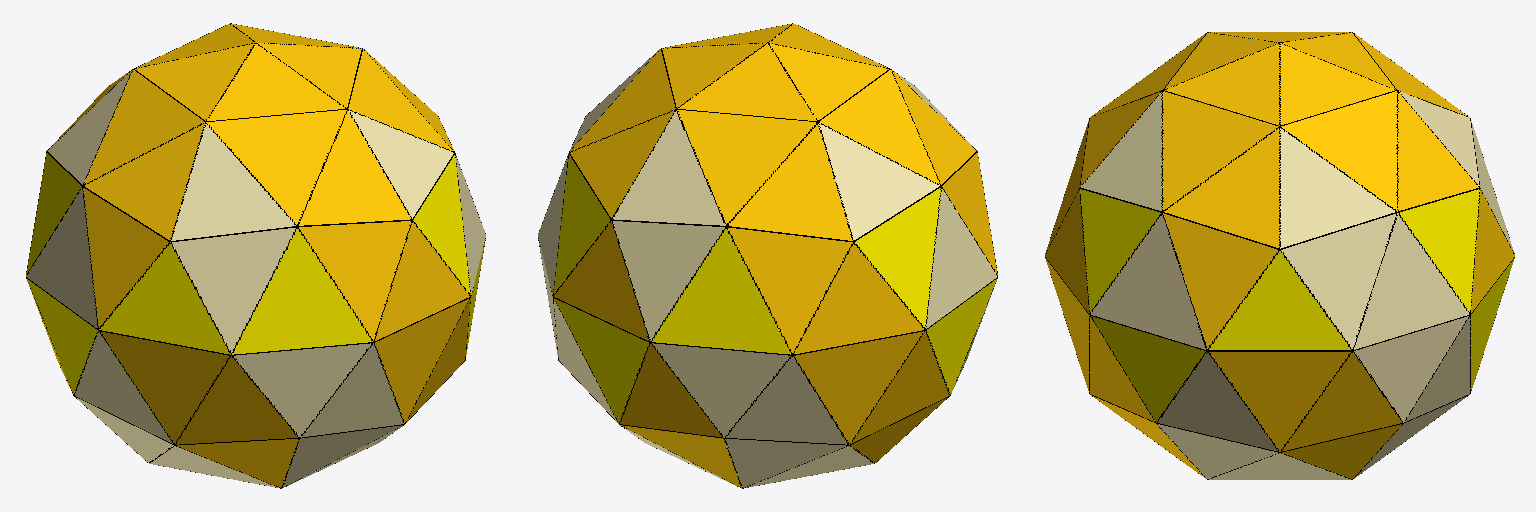
3 renders of one model, left to right at view 1: azimuth 30°, elevation 25°; view 2: azimuth 150°, elevation 25°; view 3: azimuth 270°, elevation 25°, orthographic.
Parts seen in each view (by area): view 1: zap_sphere_Icosphere; view 2: zap_sphere_Icosphere; view 3: zap_sphere_Icosphere.
Boxes of the visible parts, box(x1,y1,x2,y2) form: zap_sphere_Icosphere: box(26, 23, 485, 488); zap_sphere_Icosphere: box(538, 23, 997, 488); zap_sphere_Icosphere: box(1045, 32, 1514, 479).
Bounding box in the file's own units: 1.9 × 2 × 2.
1 materials, 1 textured.